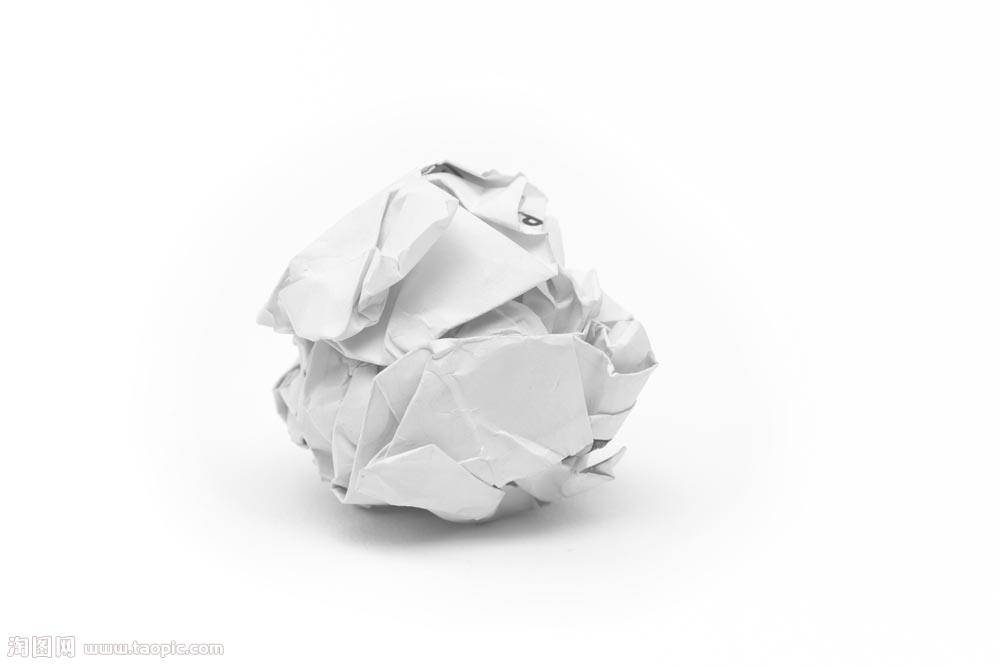flexible: (257, 160, 665, 538)
